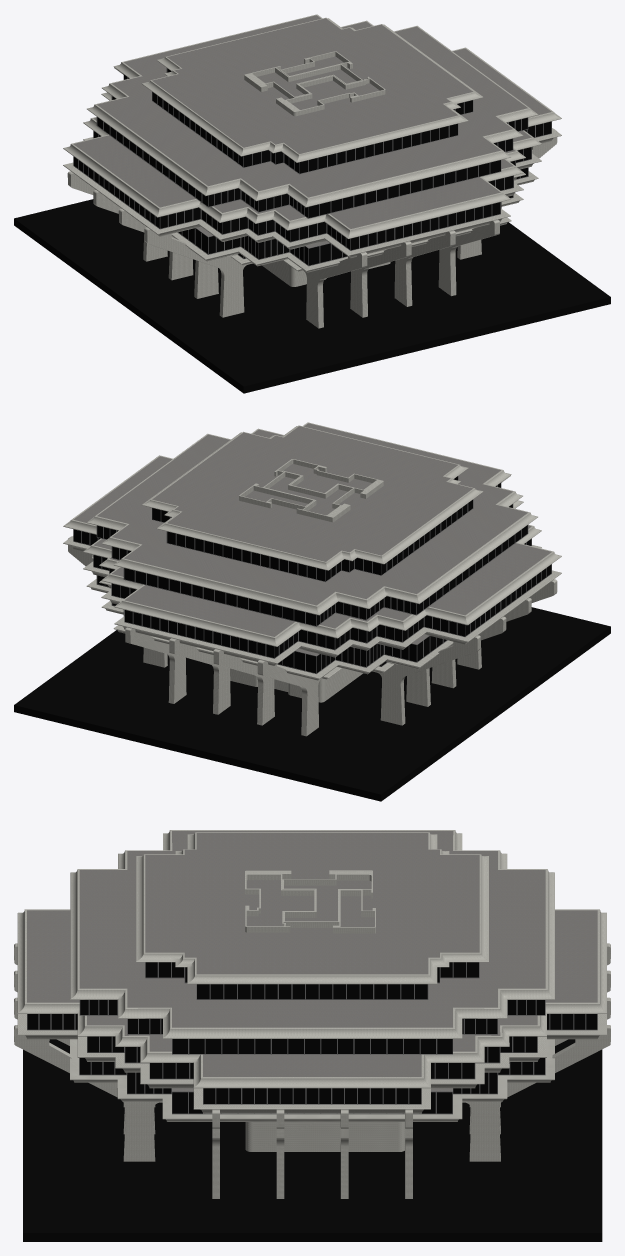
The model's file is finalDone.fbx.
The picture shows the model from 3 angles, top to bottom: view 1: azimuth 30°, elevation 25°; view 2: azimuth 150°, elevation 25°; view 3: azimuth 270°, elevation 25°; orthographic projection. The views are drawn at different scales.
Parts seen in each view (by area): view 1: pCube172, nurbsToPoly7, polySurface15, polySurface21, polySurface11, pCube32, pCube171, LibraryPiece:polySurface23, pCube168, pCube169, pCube170, LibraryPiece:polySurface21 (+5 smaller); view 2: pCube172, nurbsToPoly7, polySurface15, polySurface21, polySurface11, pCube17, pCube171, pCube25, pCube168, pCube169, pCube170, LibraryPiece:polySurface21 (+5 smaller); view 3: pCube172, nurbsToPoly7, polySurface15, polySurface21, polySurface11, pCube170, pCube25, LibraryPiece:polySurface21, LibraryPiece:polySurface23, pCube30, pCube31, LibraryPiece:polySurface22 (+2 smaller).
Boxes of the visible parts, left/top/right/bottom form: pCube172: left=14, top=199, right=610, bottom=393; nurbsToPoly7: left=142, top=17, right=483, bottom=174; polySurface15: left=87, top=14, right=538, bottom=218; polySurface21: left=63, top=47, right=561, bottom=258; polySurface11: left=171, top=167, right=538, bottom=272; pCube32: left=144, top=128, right=557, bottom=317; pCube171: left=303, top=252, right=367, bottom=328; LibraryPiece:polySurface23: left=276, top=75, right=385, bottom=116; pCube168: left=350, top=241, right=411, bottom=317; pCube169: left=394, top=230, right=455, bottom=306; pCube170: left=438, top=219, right=499, bottom=296; LibraryPiece:polySurface21: left=244, top=64, right=362, bottom=98; pCube172: left=14, top=607, right=610, bottom=801; nurbsToPoly7: left=142, top=425, right=483, bottom=581; polySurface15: left=86, top=422, right=537, bottom=626; polySurface21: left=63, top=455, right=561, bottom=665; polySurface11: left=86, top=575, right=453, bottom=680; pCube17: left=68, top=536, right=480, bottom=725; pCube171: left=257, top=660, right=321, bottom=736; pCube25: left=230, top=668, right=362, bottom=702; pCube168: left=213, top=649, right=274, bottom=725; pCube169: left=169, top=638, right=230, bottom=714; pCube170: left=125, top=627, right=186, bottom=703; LibraryPiece:polySurface21: left=263, top=471, right=354, bottom=522; pCube172: left=23, top=1039, right=602, bottom=1241; nurbsToPoly7: left=136, top=832, right=488, bottom=999; polySurface15: left=70, top=830, right=554, bottom=1054; polySurface21: left=17, top=909, right=606, bottom=1113; polySurface11: left=70, top=1039, right=554, bottom=1121; pCube170: left=14, top=1025, right=610, bottom=1161; pCube25: left=245, top=1122, right=404, bottom=1151; LibraryPiece:polySurface21: left=282, top=870, right=372, bottom=927; LibraryPiece:polySurface23: left=245, top=870, right=315, bottom=932; pCube30: left=340, top=1109, right=348, bottom=1198; pCube31: left=276, top=1109, right=284, bottom=1198; LibraryPiece:polySurface22: left=333, top=889, right=375, bottom=933.
Size of the model in its own units: 318 by 136 by 318.
